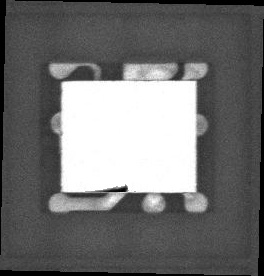DIE_BROKEN: (93, 182, 130, 193)
